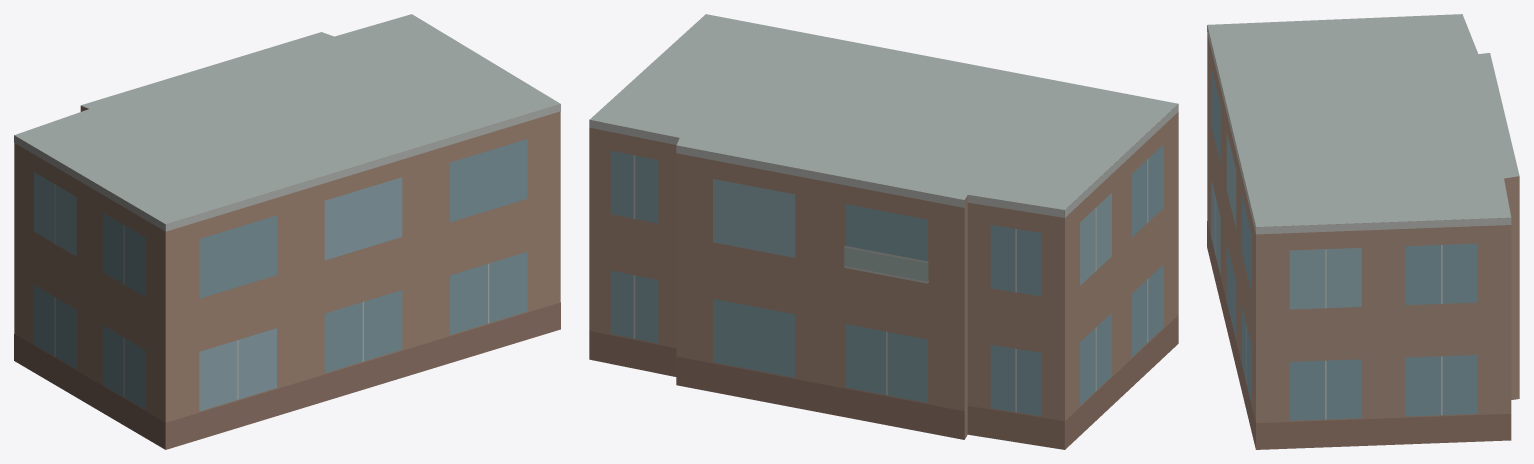
File: survey-upis-32999665.glb
3 renders of one model, left to right at view 1: azimuth 30°, elevation 25°; view 2: azimuth 150°, elevation 25°; view 3: azimuth 270°, elevation 25°, orthographic. The views are drawn at different scales.
Parts seen in each view (by area): view 1: survey-upis-32999665.tmp; view 2: survey-upis-32999665.tmp; view 3: survey-upis-32999665.tmp.
Part boxes in pixels (left/top/right/bottom): survey-upis-32999665.tmp: left=14, top=14, right=560, bottom=449; survey-upis-32999665.tmp: left=589, top=14, right=1178, bottom=449; survey-upis-32999665.tmp: left=1207, top=14, right=1519, bottom=449.
Size of the model in its own units: 15.19 by 7.4 by 9.42.
